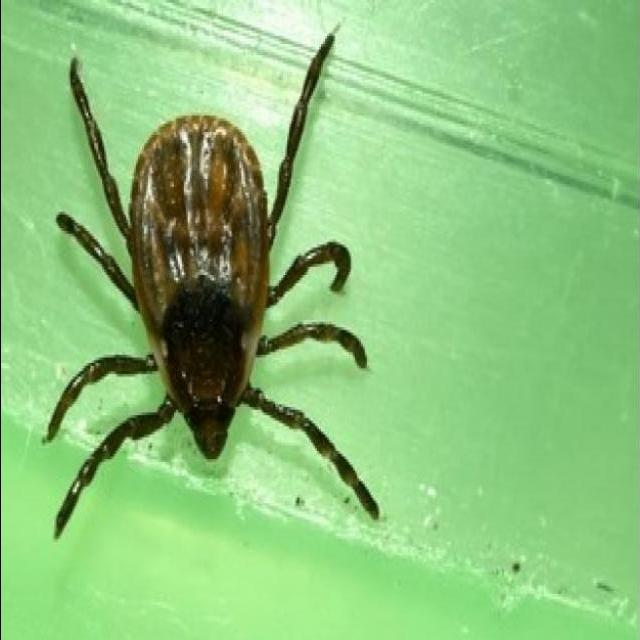Rhipicephalus Sanguineus-F: (45, 30, 383, 539)
